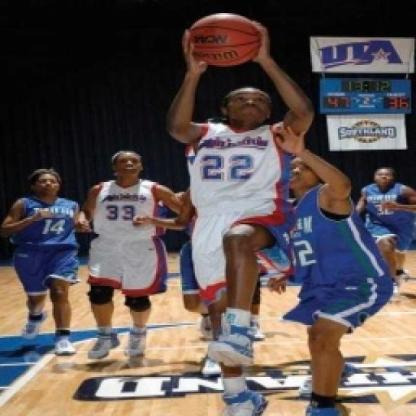basketball: (184, 4, 263, 72)
